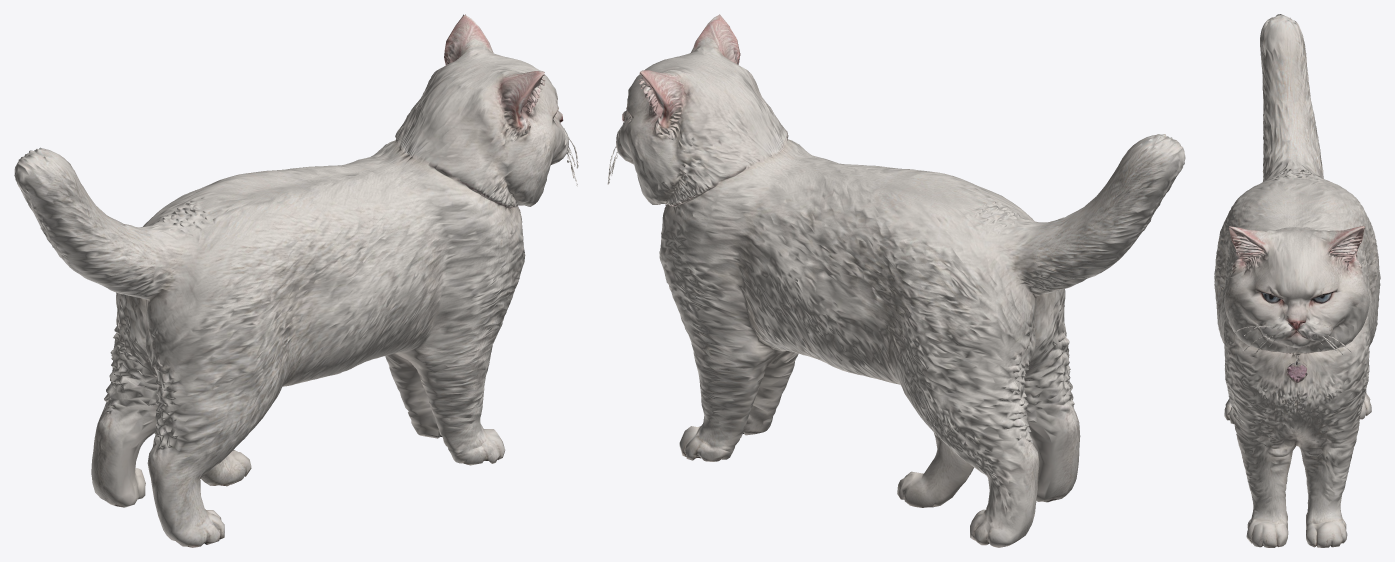
Rendered from SALADCAT.glb.
The picture shows the model from 3 angles, left to right: view 1: azimuth 30°, elevation 25°; view 2: azimuth 150°, elevation 25°; view 3: azimuth 270°, elevation 25°; orthographic projection. The views are drawn at different scales.
Visible parts, largest first — view 1: tripo_node_cd040e70-8850-48e9-95d1-4a41f6b21c55; view 2: tripo_node_cd040e70-8850-48e9-95d1-4a41f6b21c55; view 3: tripo_node_cd040e70-8850-48e9-95d1-4a41f6b21c55.
Part boxes in pixels (x1,y1,x2,y2): tripo_node_cd040e70-8850-48e9-95d1-4a41f6b21c55: [14, 14, 578, 547]; tripo_node_cd040e70-8850-48e9-95d1-4a41f6b21c55: [607, 14, 1185, 547]; tripo_node_cd040e70-8850-48e9-95d1-4a41f6b21c55: [1214, 14, 1380, 547].
Size of the model in its own units: 1.41 by 0.9992 by 0.434.
Materials: 1 (1 with a texture image).
